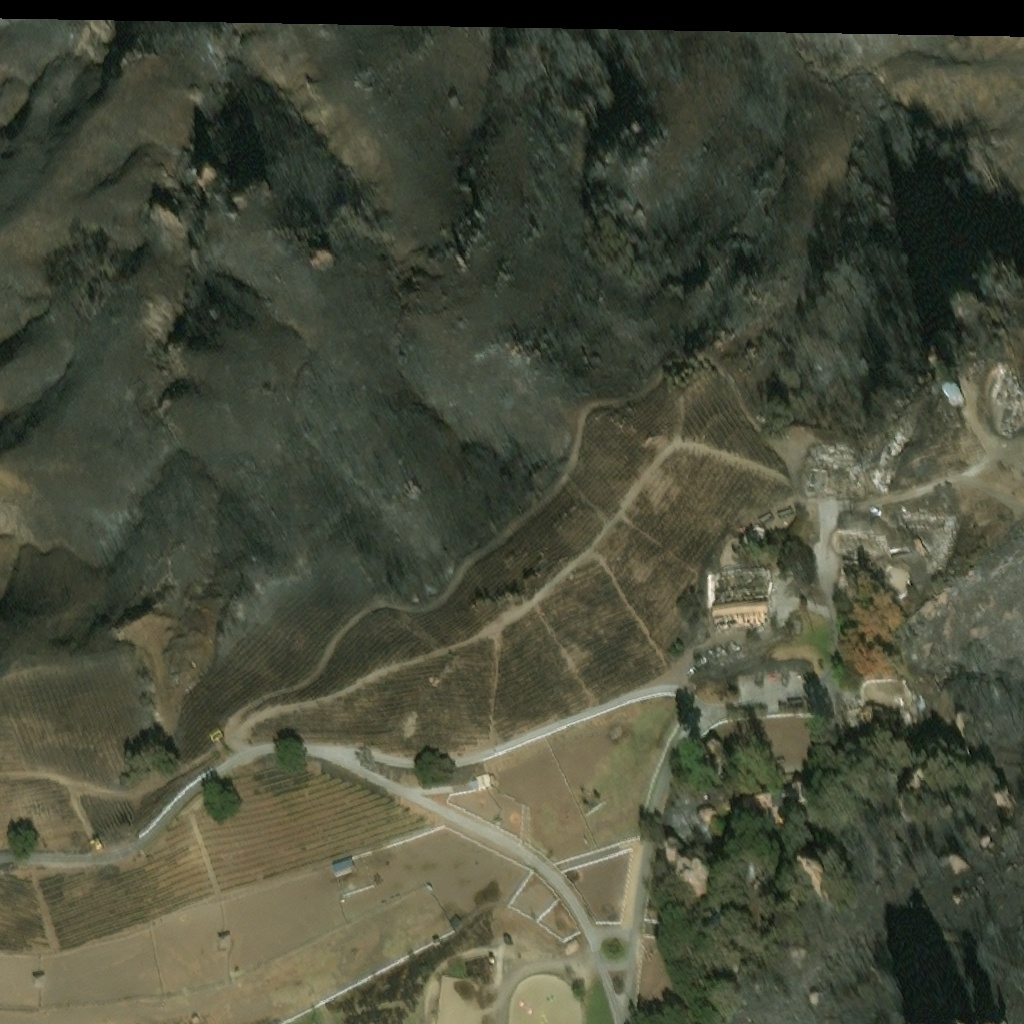0 no-damage: (331, 856, 353, 873), (217, 933, 230, 946)
1 minor-damage: (470, 774, 495, 790)
3 destroyed: (898, 505, 960, 575), (705, 567, 771, 608), (843, 695, 907, 721), (984, 359, 1012, 399), (836, 528, 884, 549), (813, 436, 851, 461), (999, 378, 1018, 404), (838, 558, 862, 578), (1002, 405, 1020, 427), (993, 401, 1010, 423), (878, 445, 896, 465), (369, 844, 391, 859), (947, 391, 964, 408), (1011, 383, 1023, 407), (911, 692, 925, 711), (606, 722, 622, 737), (858, 429, 873, 445), (865, 559, 882, 573), (871, 468, 885, 485), (697, 805, 713, 816), (789, 616, 801, 629), (864, 550, 881, 559), (32, 974, 43, 986), (850, 549, 861, 559), (602, 899, 608, 905)
4 un-classified: (771, 780, 805, 804)
